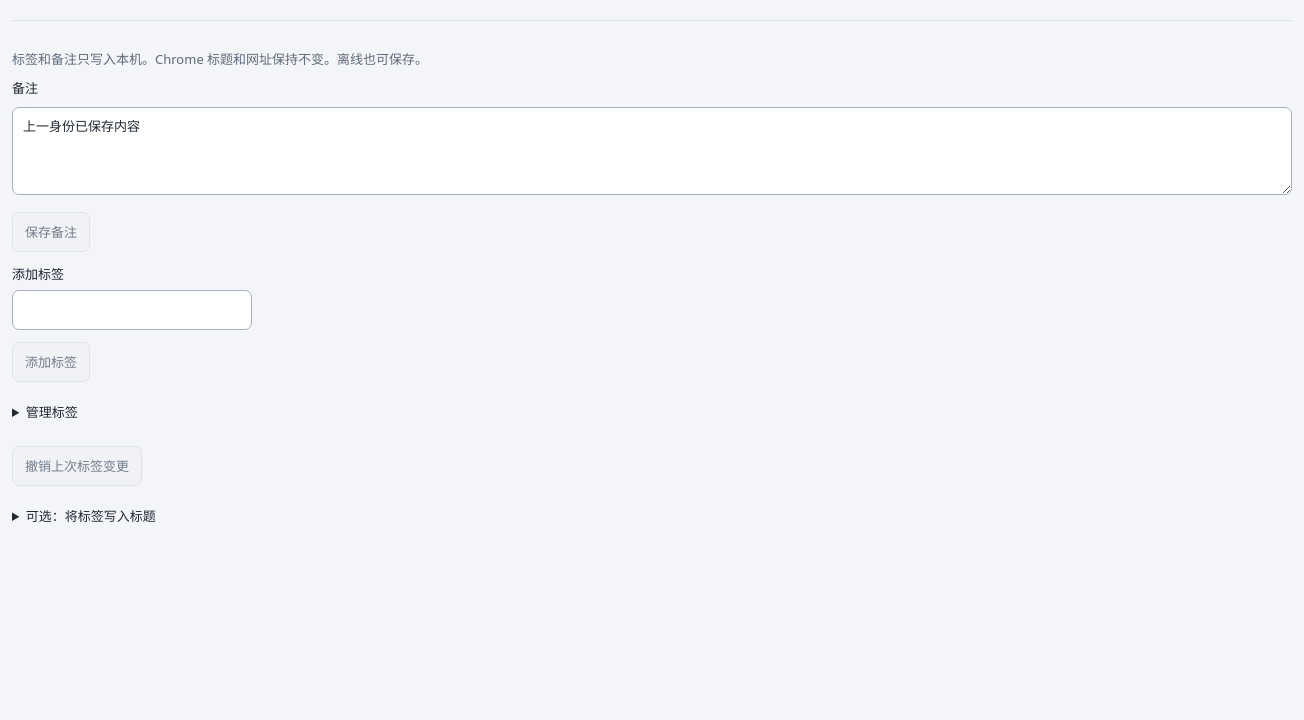
it: R05 cannot save the prior clean note while the new epoch catalog is loading
expect the text box labelled "备注" holds "上一身份已保存内容": met, box [12, 107, 1292, 195]
Click the button "保存备注" at (51, 232), box [12, 212, 90, 252]
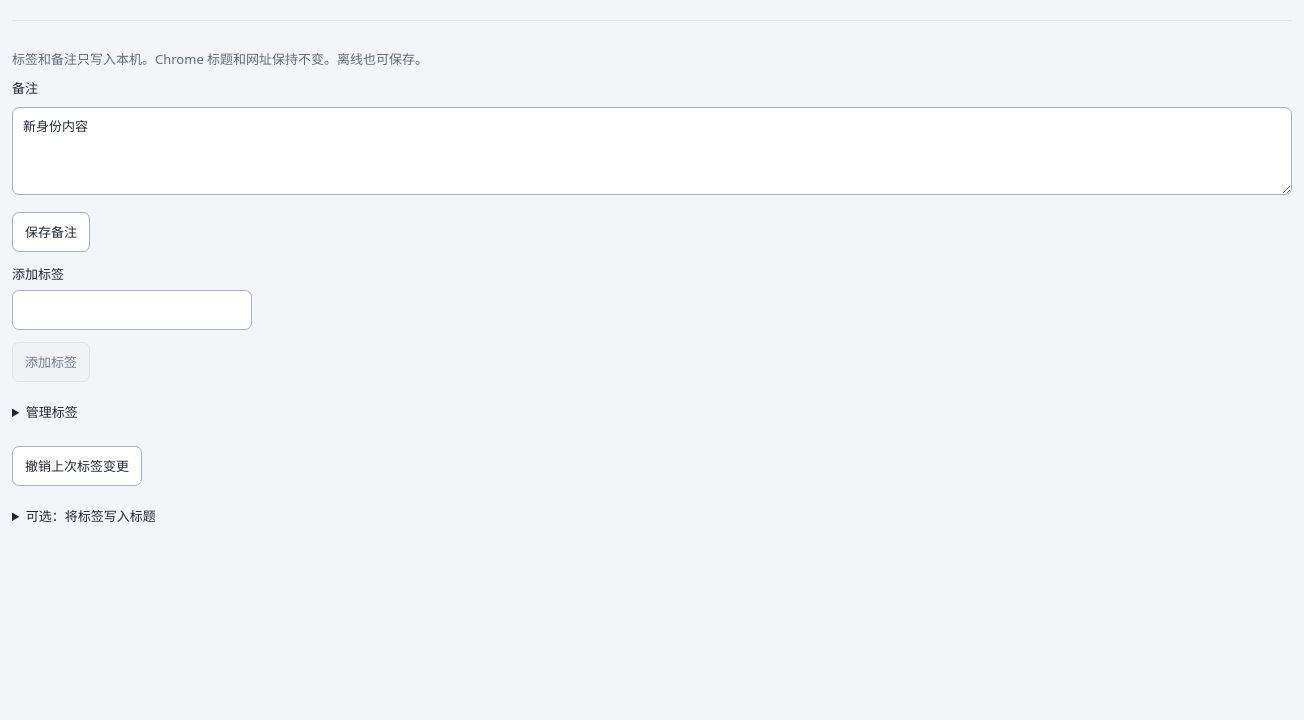
expect the button "保存备注" is enabled: met, box [12, 212, 90, 252]
expect the text box labelled "备注" holds "新身份内容": met, box [12, 107, 1292, 195]
